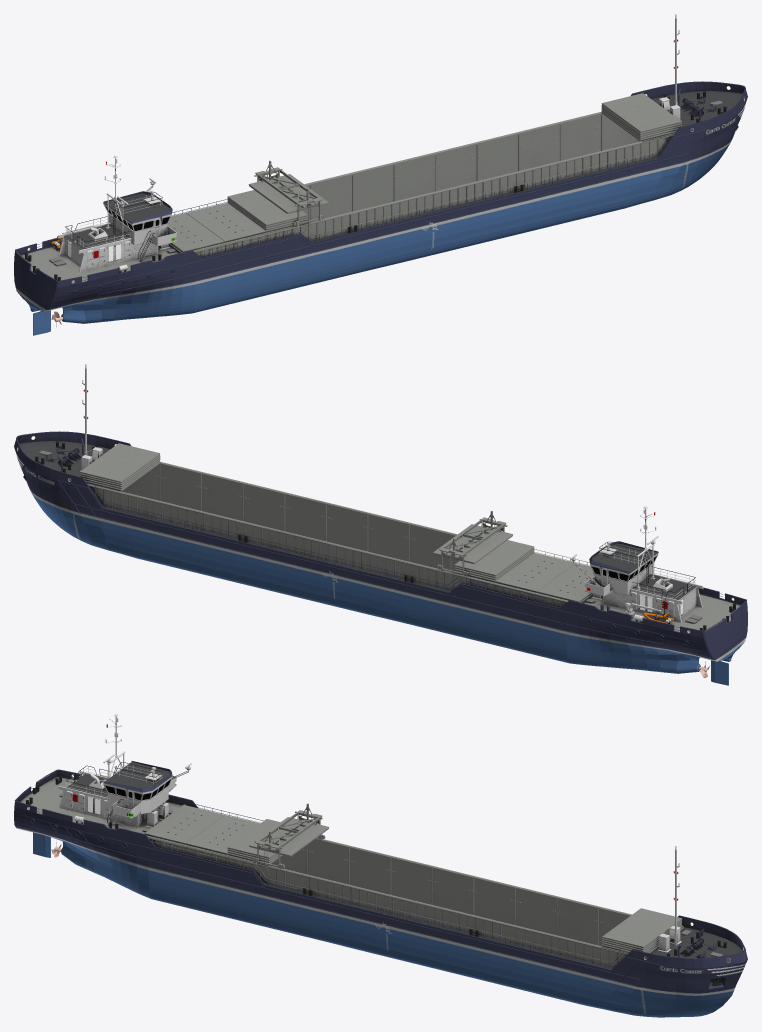
The model's file is ship.obj.
3 renders of one model, top to bottom at view 1: azimuth 30°, elevation 25°; view 2: azimuth 150°, elevation 25°; view 3: azimuth 330°, elevation 25°, orthographic.
Parts seen in each view (by area): view 1: 490898c2_9c38_4a96_96fe_523da11684bd, 15fcd2e5_f871_4e1a_9541_e9ca3e977ecd, c4e4b288_c30a_480d_8321_8ce1ae5f1792, ffc159d5_2cec_41e1_bd09_2c20913d45cf, e7c6a169_80b2_4125_993d_98bc79fa4f01, e4938862_9a1d_43aa_9b01_a40727153e6c, 311db65d_f56f_40cf_a623_46f2a03ef893, 62cad764_5cd0_4f3d_979b_095dacb48aff, e2532c49_7d39_4f5c_9eac_fa05eb1723a7, 6ad80dc3_1134_411b_8e83_e0c447559454; view 2: 490898c2_9c38_4a96_96fe_523da11684bd, 15fcd2e5_f871_4e1a_9541_e9ca3e977ecd, c4e4b288_c30a_480d_8321_8ce1ae5f1792, ffc159d5_2cec_41e1_bd09_2c20913d45cf, e7c6a169_80b2_4125_993d_98bc79fa4f01, e4938862_9a1d_43aa_9b01_a40727153e6c, 6ad80dc3_1134_411b_8e83_e0c447559454, 62cad764_5cd0_4f3d_979b_095dacb48aff, e2532c49_7d39_4f5c_9eac_fa05eb1723a7; view 3: 490898c2_9c38_4a96_96fe_523da11684bd, 15fcd2e5_f871_4e1a_9541_e9ca3e977ecd, c4e4b288_c30a_480d_8321_8ce1ae5f1792, ffc159d5_2cec_41e1_bd09_2c20913d45cf, e7c6a169_80b2_4125_993d_98bc79fa4f01, e4938862_9a1d_43aa_9b01_a40727153e6c, 311db65d_f56f_40cf_a623_46f2a03ef893, 62cad764_5cd0_4f3d_979b_095dacb48aff, e2532c49_7d39_4f5c_9eac_fa05eb1723a7, 6ad80dc3_1134_411b_8e83_e0c447559454.
Part boxes in pixels (x1,y1,x2,y2): 490898c2_9c38_4a96_96fe_523da11684bd: [14, 82, 747, 323]; 15fcd2e5_f871_4e1a_9541_e9ca3e977ecd: [25, 18, 735, 280]; c4e4b288_c30a_480d_8321_8ce1ae5f1792: [29, 93, 722, 280]; ffc159d5_2cec_41e1_bd09_2c20913d45cf: [21, 91, 746, 327]; e7c6a169_80b2_4125_993d_98bc79fa4f01: [24, 14, 738, 313]; e4938862_9a1d_43aa_9b01_a40727153e6c: [15, 81, 745, 282]; 311db65d_f56f_40cf_a623_46f2a03ef893: [33, 104, 716, 335]; 62cad764_5cd0_4f3d_979b_095dacb48aff: [65, 156, 175, 266]; e2532c49_7d39_4f5c_9eac_fa05eb1723a7: [51, 163, 324, 250]; 6ad80dc3_1134_411b_8e83_e0c447559454: [41, 96, 726, 293]; 490898c2_9c38_4a96_96fe_523da11684bd: [14, 432, 747, 673]; 15fcd2e5_f871_4e1a_9541_e9ca3e977ecd: [26, 368, 735, 630]; c4e4b288_c30a_480d_8321_8ce1ae5f1792: [39, 443, 732, 624]; ffc159d5_2cec_41e1_bd09_2c20913d45cf: [15, 441, 740, 677]; e7c6a169_80b2_4125_993d_98bc79fa4f01: [23, 364, 736, 663]; e4938862_9a1d_43aa_9b01_a40727153e6c: [16, 431, 746, 632]; 6ad80dc3_1134_411b_8e83_e0c447559454: [45, 441, 699, 648]; 62cad764_5cd0_4f3d_979b_095dacb48aff: [570, 506, 695, 617]; e2532c49_7d39_4f5c_9eac_fa05eb1723a7: [437, 513, 669, 623]; 490898c2_9c38_4a96_96fe_523da11684bd: [14, 770, 747, 1017]; 15fcd2e5_f871_4e1a_9541_e9ca3e977ecd: [26, 766, 712, 984]; c4e4b288_c30a_480d_8321_8ce1ae5f1792: [30, 775, 722, 970]; ffc159d5_2cec_41e1_bd09_2c20913d45cf: [20, 762, 746, 976]; e7c6a169_80b2_4125_993d_98bc79fa4f01: [26, 770, 726, 986]; e4938862_9a1d_43aa_9b01_a40727153e6c: [15, 761, 745, 970]; 311db65d_f56f_40cf_a623_46f2a03ef893: [19, 804, 706, 986]; 62cad764_5cd0_4f3d_979b_095dacb48aff: [66, 714, 191, 826]; e2532c49_7d39_4f5c_9eac_fa05eb1723a7: [104, 771, 323, 871]; 6ad80dc3_1134_411b_8e83_e0c447559454: [31, 819, 716, 958].
Bounding box in the file's own units: 296 × 64.86 × 34.02.
Materials: 2 (1 with a texture image).
